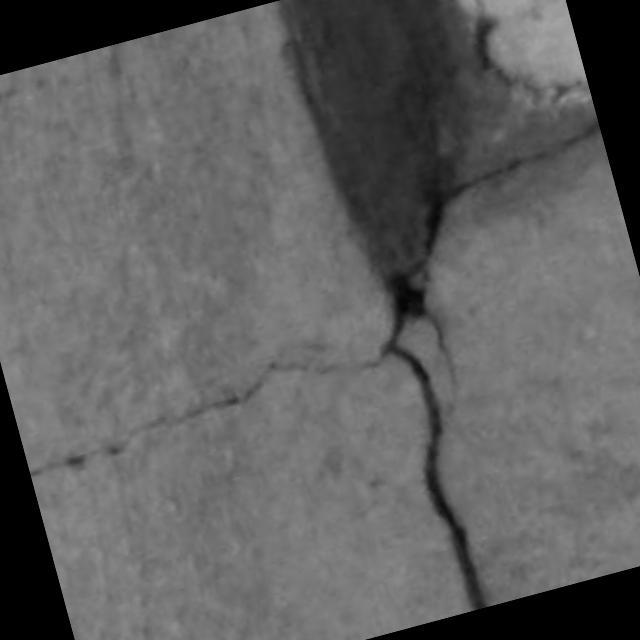crack: (280, 0, 464, 298), (29, 345, 389, 480), (389, 342, 487, 610), (446, 120, 601, 204)
